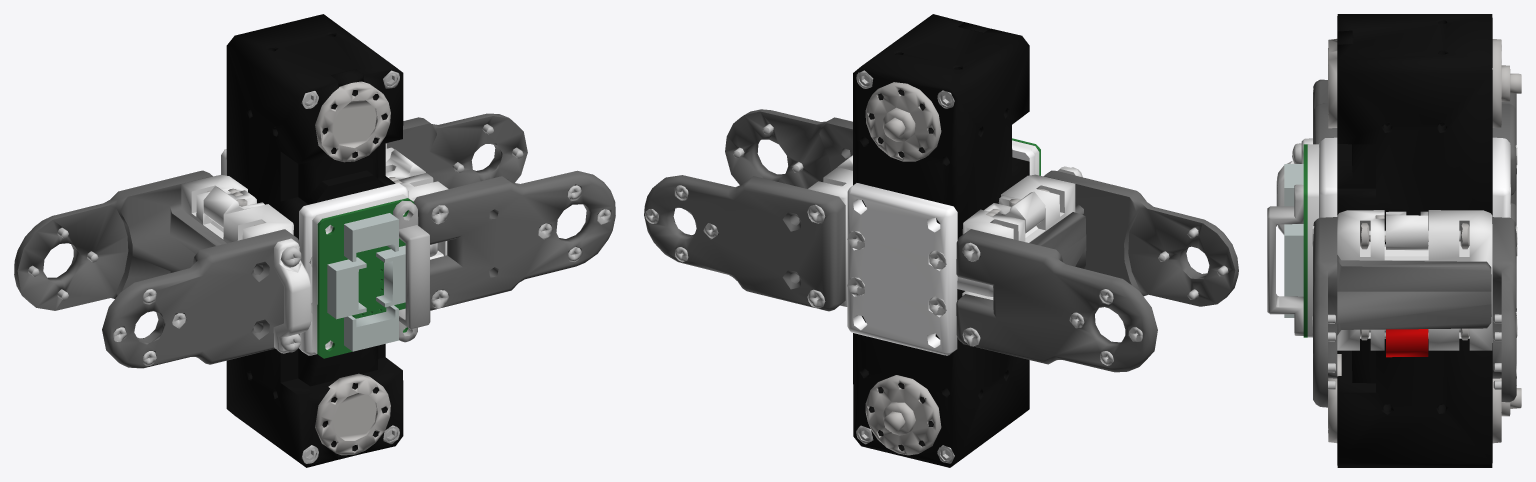
Rendered from link_body_01.obj.
3 renders of one model, left to right at view 1: azimuth 30°, elevation 25°; view 2: azimuth 150°, elevation 25°; view 3: azimuth 270°, elevation 25°, orthographic. The views are drawn at different scales.
Visible parts, largest first — view 1: link_body_01; view 2: link_body_01; view 3: link_body_01.
Part boxes in pixels (x1=…): link_body_01: x1=14, y1=14, x2=615, y2=467; link_body_01: x1=644, y1=14, x2=1238, y2=467; link_body_01: x1=1267, y1=14, x2=1521, y2=467.
Size of the model in its own units: 139 by 98.5 by 55.65.
